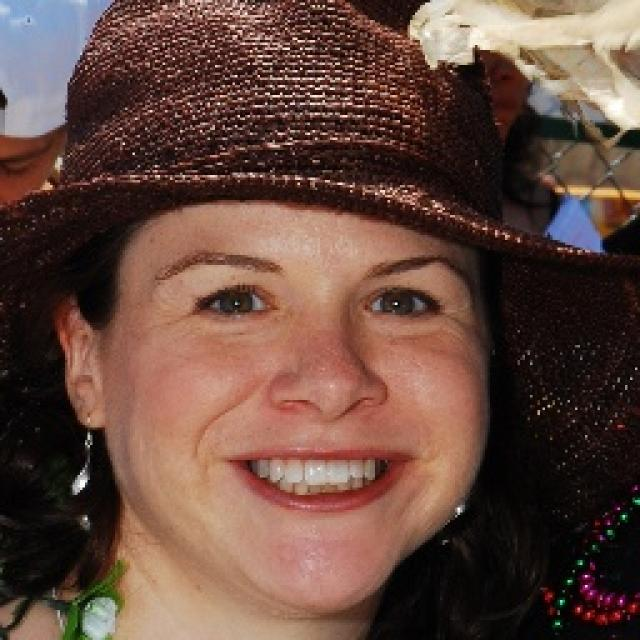earlobe: (48, 294, 106, 432)
